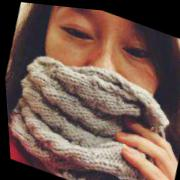WRONG: (22, 3, 176, 156)
